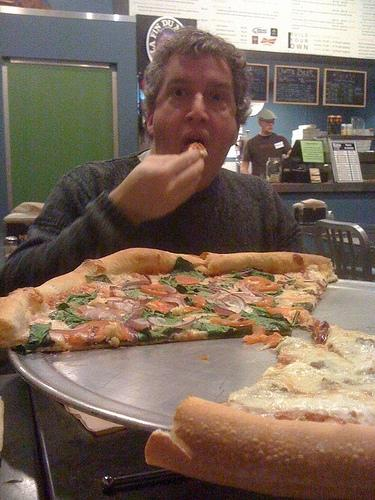onion: (212, 294, 246, 316), (110, 273, 152, 290), (147, 315, 196, 328), (50, 324, 89, 336), (79, 310, 114, 320), (128, 318, 150, 332), (112, 300, 134, 314), (160, 294, 183, 306), (240, 284, 256, 296), (163, 284, 177, 294), (208, 290, 221, 298), (132, 304, 142, 311)
tomato: (68, 320, 130, 344), (242, 326, 282, 348), (238, 276, 279, 292), (210, 314, 256, 326), (146, 299, 176, 314), (140, 284, 168, 296), (175, 275, 201, 285), (268, 305, 290, 316), (257, 296, 273, 306), (200, 354, 210, 360)
